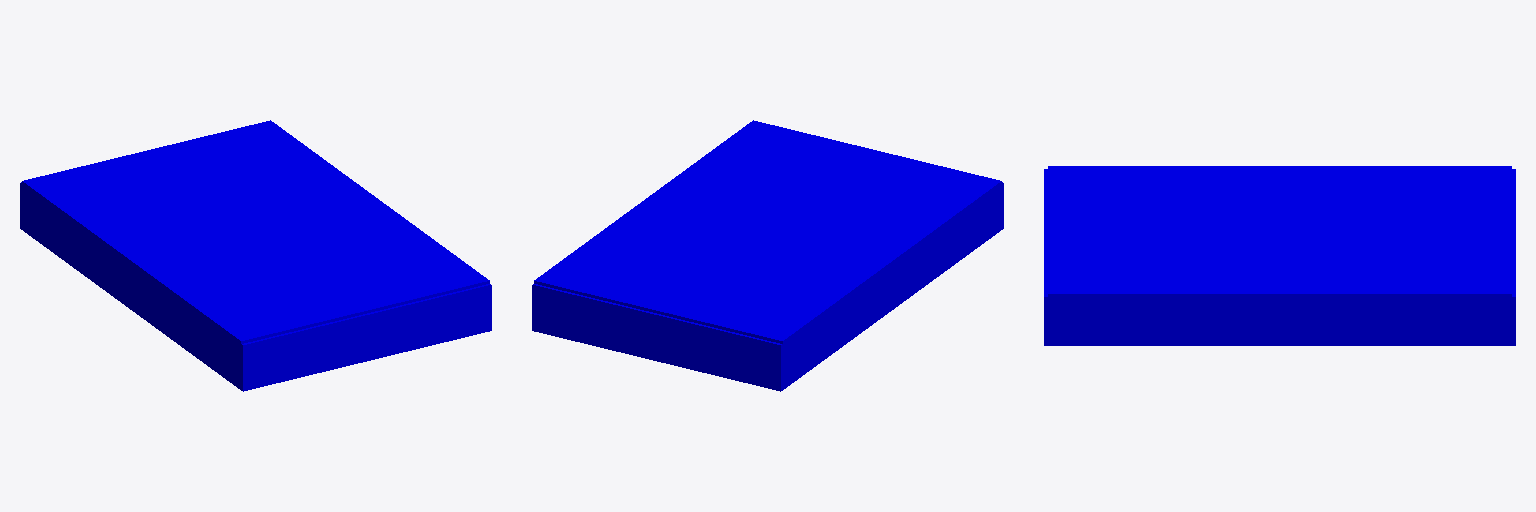
URDF robot description (bin_cover):
<?xml version="1.0"?>

<robot name="bin_cover">
  <link name="bin_up">
    <contact>
      <restitution value="1.0e-8" />
      <!-- <lateral_friction value="1.0e+8"/>
      <rolling_friction value="1.0e+8"/>
      <spinning_friction value="1.0e+8"/> -->
      <contact_cfm value="0.00001"/>
      <contact_erp value="0.2"/>
    </contact>   
    
    <inertial>
      <origin xyz="0 0 0" />
      <mass value="0.05" />
      <inertia  ixx="1.0" ixy="0.0"  ixz="0.0"  iyy="1.0"  iyz="0.0"  izz="1.0" />
    </inertial>

    <visual>
      <origin xyz="0 0 0"/>
      <geometry>
        <box size="0.135 0.206 0.003"/>
      </geometry>
      <material name="blue">
	      <color rgba=".0 .0 1.0 1.0"/>
      </material>
    </visual>
    
    <collision>
      <origin xyz="0 0 0"/>
      <geometry>
        <box size="0.135 0.206 0.003"/>
      </geometry>
    </collision>
  </link>

  <joint name="0" type="fixed">
    <parent link="bin_up"/>
    <child link="bin_left"/>
    <origin rpy="0.0 0.0 0.0" xyz="-0.066 0. -0.012" />
  </joint>

  <link name="bin_left">
    <contact>
      <restitution value="1.0e-8" />
      <!-- <lateral_friction value="1.0e+8"/>
      <rolling_friction value="1.0e+8"/>
      <spinning_friction value="1.0e+8"/> -->
      <contact_cfm value="0.00001"/>
      <contact_erp value="0.2"/>
    </contact>   
    
    <inertial>
      <origin xyz="0 0 0" />
      <mass value="0.05" />
      <inertia  ixx="1.0" ixy="0.0"  ixz="0.0"  iyy="1.0"  iyz="0.0"  izz="1.0" />
    </inertial>
    
    <visual>
      <origin xyz="0 0 0"/>
      <geometry>
        <box size="0.003 0.206 0.024"/>
      </geometry>
      <material name="blue">
	      <color rgba=".0 .0 1.0 1.0"/>
      </material>
    </visual>
    
    <collision>
      <origin xyz="0 0 0"/>
      <geometry>
        <box size="0.003 0.206 0.024"/>
      </geometry>
    </collision>
  
  </link>

  <joint name="1" type="fixed">
    <parent link="bin_left"/>
    <child link="bin_back"/>
    <origin rpy="0.0 0.0 0.0" xyz="0.066 0.103 0" />
  </joint>

  <link name="bin_back">
    <contact>
      <restitution value="1.0e-8" />
      <!-- <lateral_friction value="1.0e+8"/>
      <rolling_friction value="1.0e+8"/>
      <spinning_friction value="1.0e+8"/> -->
      <contact_cfm value="0.00001"/>
      <contact_erp value="0.2"/>
    </contact>   
    
    <inertial>
      <origin xyz="0 0 0" />
      <mass value="0.05" />
      <inertia  ixx="1.0" ixy="0.0"  ixz="0.0"  iyy="1.0"  iyz="0.0"  izz="1.0" />
    </inertial>
    
    <visual>
      <origin xyz="0 0 0"/>
      <geometry>
        <box size="0.135 0.003 0.024"/>
      </geometry>
      <material name="blue">
	      <color rgba=".0 .0 1.0 1.0"/>
      </material>
    </visual>
    
    <collision>
      <origin xyz="0 0 0"/>
      <geometry>
        <box size="0.135 0.003 0.024"/>
      </geometry>
    </collision>
  </link>

  <joint name="2" type="fixed">
    <parent link="bin_back"/>
    <child link="bin_right"/>
    <origin rpy="0.0 0.0 0.0" xyz="0.066 -0.103 0" />
  </joint>

  <link name="bin_right">
    <contact>
      <restitution value="1.0e-8" />
      <!-- <lateral_friction value="1.0e+8"/>
      <rolling_friction value="1.0e+8"/>
      <spinning_friction value="1.0e+8"/> -->
      <contact_cfm value="0.00001"/>
      <contact_erp value="0.2"/>
    </contact>   
    
    <inertial>
      <origin xyz="0 0 0" />
      <mass value="0.05" />
      <inertia  ixx="1.0" ixy="0.0"  ixz="0.0"  iyy="1.0"  iyz="0.0"  izz="1.0" />
    </inertial>
    
    <visual>
      <origin xyz="0 0 0"/>
      <geometry>
        <box size="0.003 0.206 0.024"/>
      </geometry>
      <material name="blue">
	      <color rgba=".0 .0 1.0 1.0"/>
      </material>
    </visual>
    
    <collision>
      <origin xyz="0 0 0"/>
      <geometry>
        <box size="0.003 0.206 0.024"/>
      </geometry>
    </collision>
  
  </link>

  <joint name="3" type="fixed">
    <parent link="bin_right"/>
    <child link="bin_front"/>
    <origin rpy="0.0 0.0 0.0" xyz="-0.066 -0.103 0" />
  </joint>

  <link name="bin_front">
    <contact>
      <restitution value="1.0e-8" />
      <!-- <lateral_friction value="1.0e+8"/>
      <rolling_friction value="1.0e+8"/>
      <spinning_friction value="1.0e+8"/> -->
      <contact_cfm value="0.00001"/>
      <contact_erp value="0.2"/>
    </contact>   
    
    <inertial>
      <origin xyz="0 0 0" />
      <mass value="0.05" />
      <inertia  ixx="1.0" ixy="0.0"  ixz="0.0"  iyy="1.0"  iyz="0.0"  izz="1.0" />
    </inertial>
    
    <visual>
      <origin xyz="0 0 0"/>
      <geometry>
        <box size="0.135 0.003 0.024"/>
      </geometry>
      <material name="blue">
	      <color rgba=".0 .0 1.0 1.0"/>
      </material>
    </visual>
    
    <collision>
      <origin xyz="0 0 0"/>
      <geometry>
        <box size="0.135 0.003 0.024"/>
      </geometry>
    </collision>
  
  </link>

</robot>

--- Render facts (derived) ---
3 views of the same robot in one strip: view 1: azimuth 30°, elevation 25°; view 2: azimuth 150°, elevation 25°; view 3: azimuth 270°, elevation 25° (orthographic).
Robot: bin_cover — 5 links, 4 joints (4 fixed); root link bin_up; default pose: all joints at 0.
Visible links, largest first — view 1: bin_up, bin_front, bin_left; view 2: bin_up, bin_back, bin_left; view 3: bin_up, bin_right, bin_back, bin_front.
Boxes of the visible links, x1=… form: bin_up: x1=22, y1=120, x2=489, y2=346; bin_front: x1=241, y1=284, x2=491, y2=391; bin_left: x1=22, y1=185, x2=240, y2=389; bin_up: x1=534, y1=120, x2=1001, y2=346; bin_back: x1=532, y1=284, x2=783, y2=391; bin_left: x1=783, y1=187, x2=1001, y2=388; bin_up: x1=1048, y1=166, x2=1511, y2=299; bin_right: x1=1048, y1=298, x2=1511, y2=345; bin_back: x1=1509, y1=169, x2=1515, y2=345; bin_front: x1=1044, y1=169, x2=1050, y2=345.
Size in the robot's own frame: 0.135 by 0.209 by 0.0255 metres.
Geometry: primitives only (box / cylinder / sphere), no mesh files.